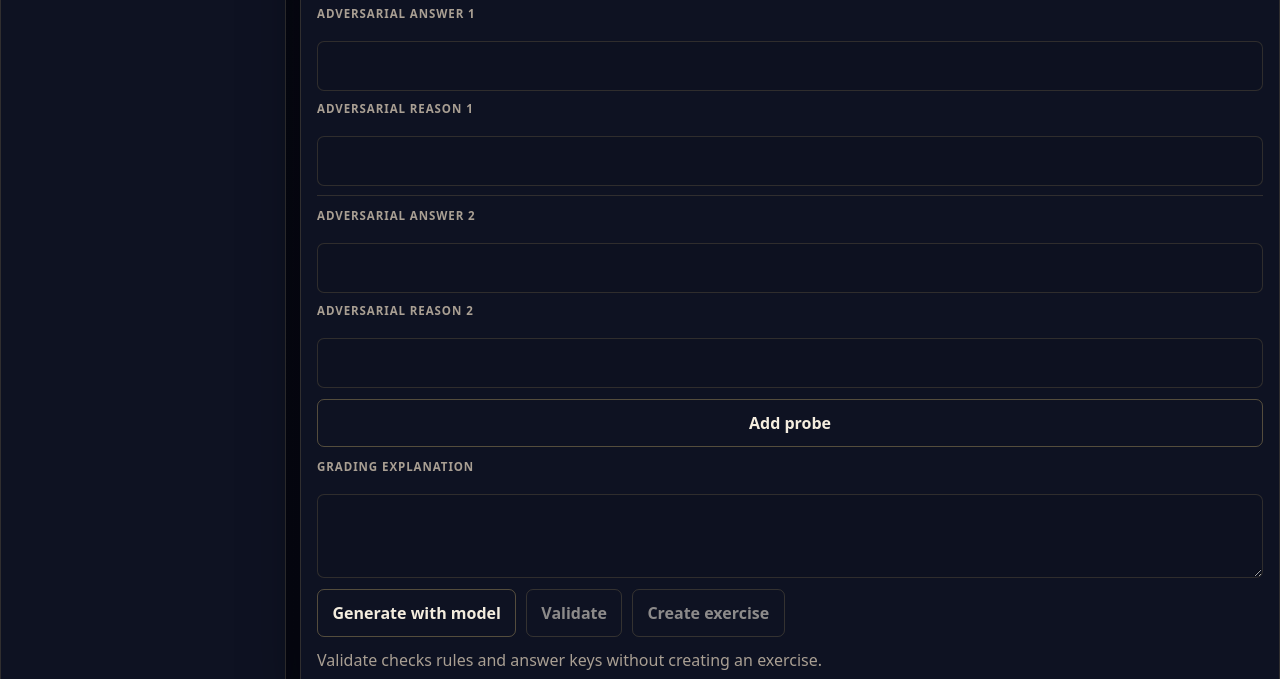
Test: LearnerView rule/note picker › pre-fills known draft rule ids into the checkbox picker
The width and height of the screenshot is (1280, 679).
(page scrolled)
Step 1. Click the button "Generate with model" → [417, 613], box [317,589,516,637]
(page scrolled)
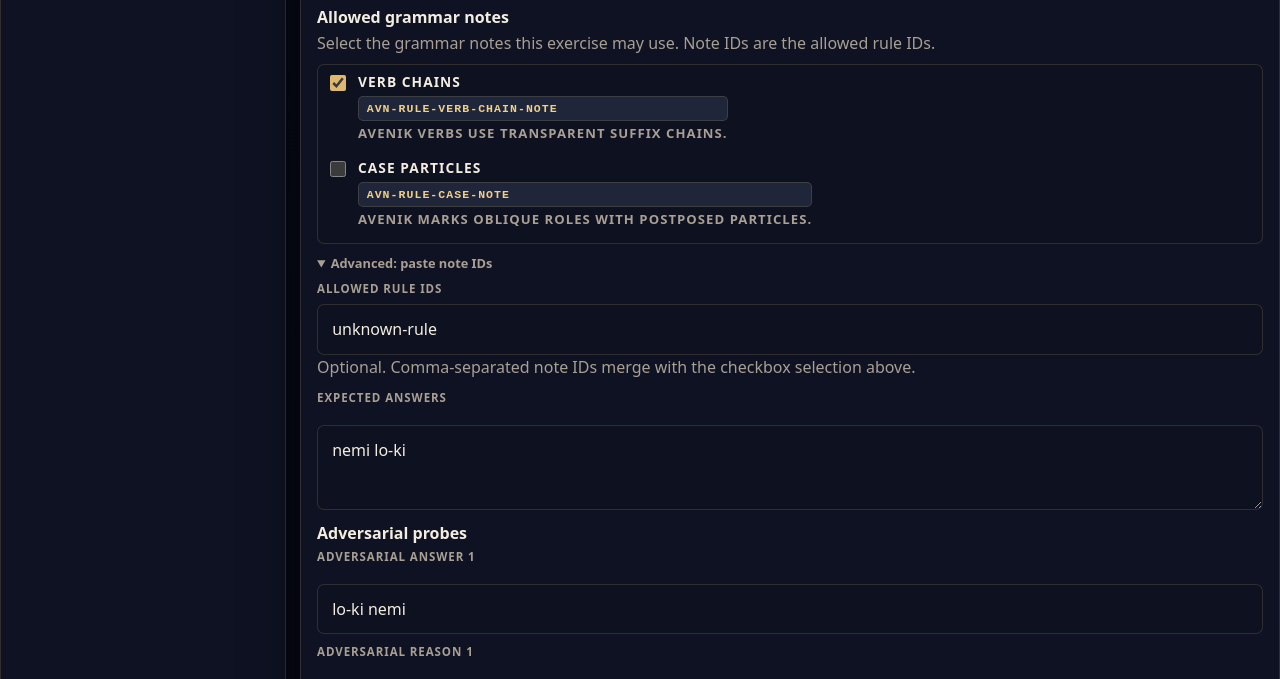
Expected: the checkbox labelled "case particles" is not checked, [330,161,346,177]
Now the checkbox labelled "verb chains" is checked, box [330,75,346,91]
Now the field labelled "Allowed rule IDs" holds "unknown-rule", box [317,304,1263,355]
